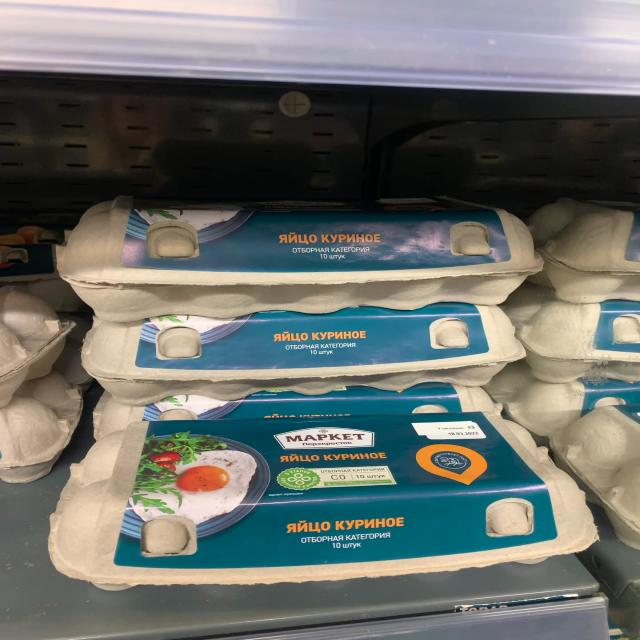egg box: (45, 406, 603, 590), (56, 195, 546, 324), (82, 304, 534, 404)
